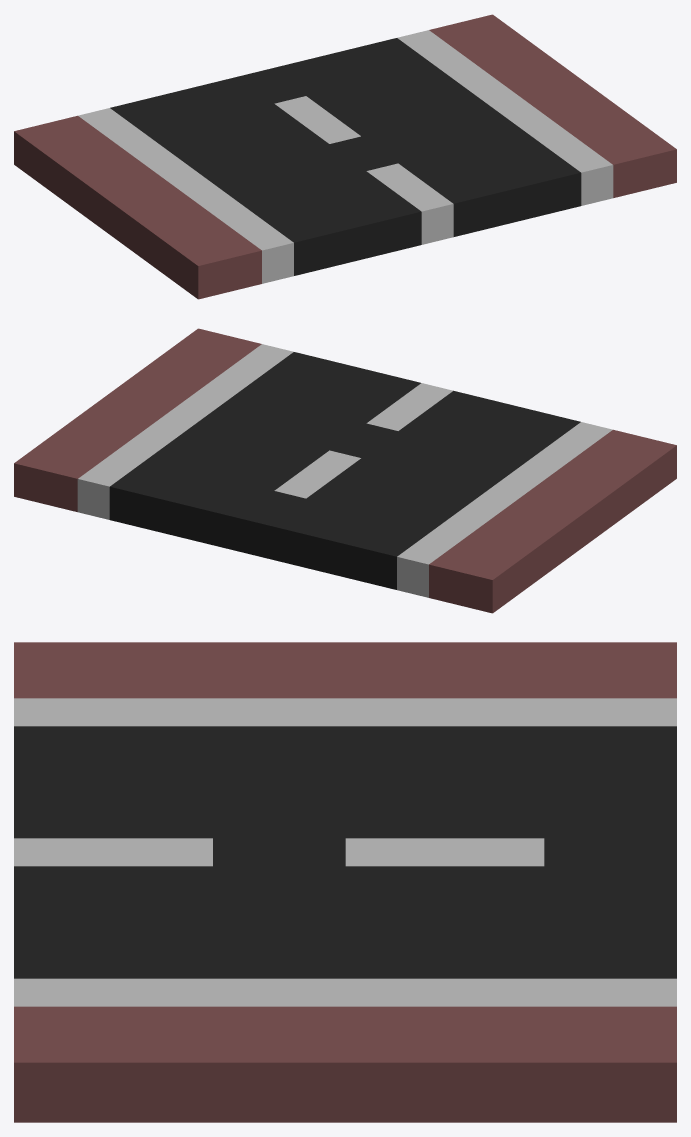
The model's file is floor03.fbx.
3 renders of one model, top to bottom at view 1: azimuth 30°, elevation 25°; view 2: azimuth 150°, elevation 25°; view 3: azimuth 270°, elevation 25°, orthographic. The views are drawn at different scales.
Parts seen in each view (by area): view 1: Objekt; view 2: Objekt; view 3: Objekt.
Part boxes in pixels (box(x1,y1,x2,y2)): Objekt: box(14, 14, 676, 299); Objekt: box(14, 328, 676, 613); Objekt: box(14, 642, 676, 1122).
Size of the model in its own units: 15 by 1 by 10.
1 material, 1 textured.
